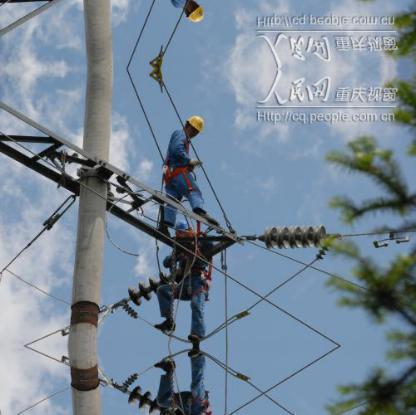helmet: (186, 115, 205, 136), (173, 219, 192, 236)
